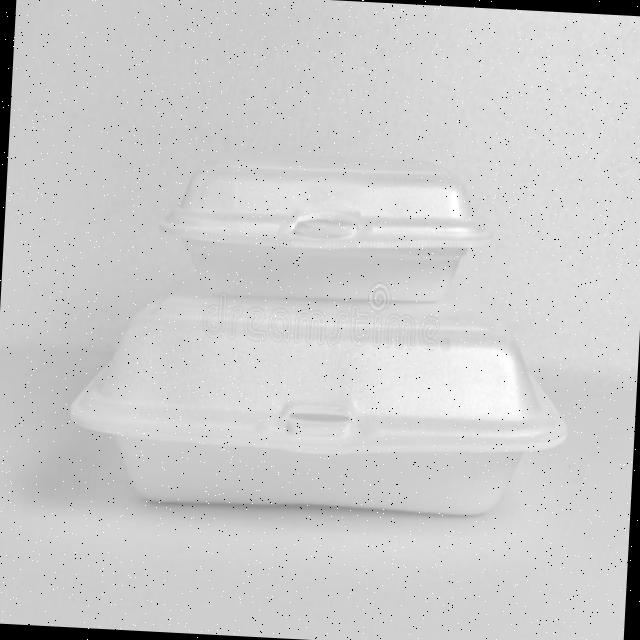styrofoam: (64, 147, 582, 526)
